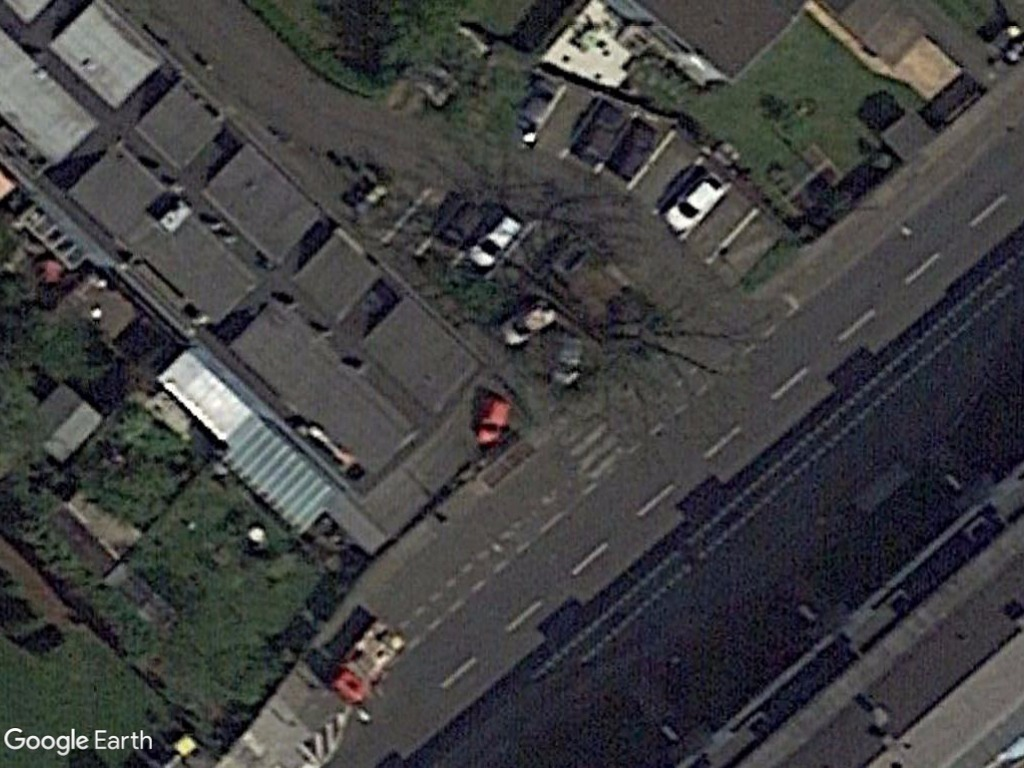car: (661, 164, 735, 238), (463, 211, 525, 274)
